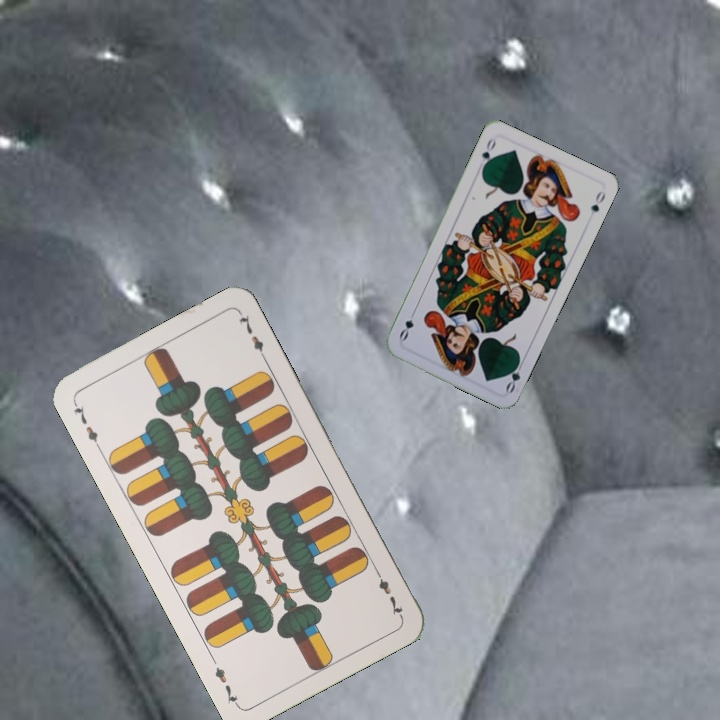E7: (371, 565, 406, 619), (69, 398, 103, 452)
GO: (502, 355, 527, 395), (478, 134, 498, 173)
